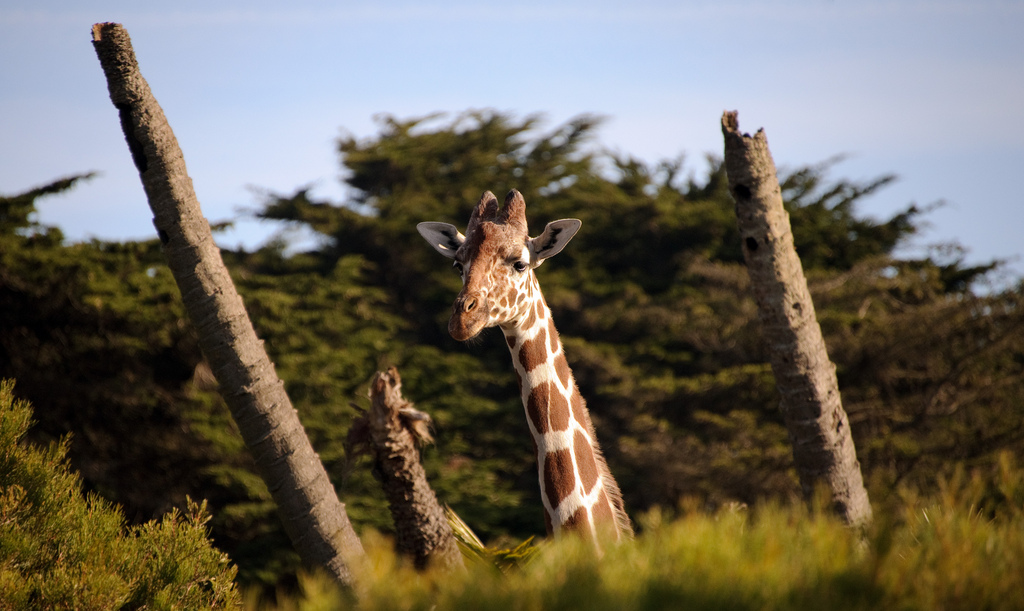giraffe: (406, 178, 662, 599)
